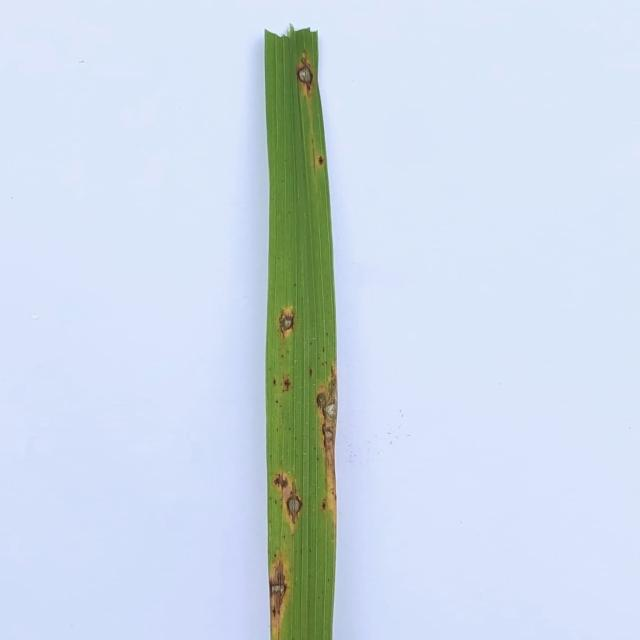leaf blast: (310, 365, 338, 514), (269, 555, 293, 639), (281, 482, 306, 530), (276, 300, 298, 342), (296, 54, 314, 96), (272, 468, 292, 492), (314, 151, 328, 170)
